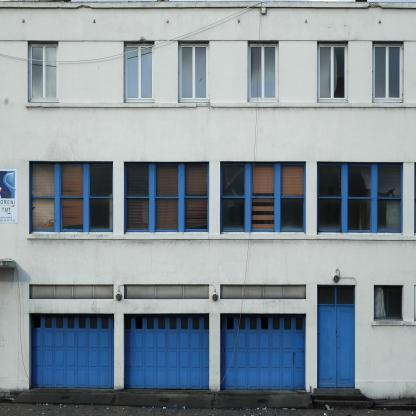Building Outline: (0, 1, 415, 405)
Door: (220, 314, 306, 391), (124, 313, 209, 390), (29, 314, 114, 390), (317, 304, 356, 388)
Facade: (0, 1, 415, 405)
Floor: (0, 1, 416, 127), (0, 137, 416, 253)
Floor Slab: (0, 127, 416, 138), (0, 253, 416, 264)
Ground Floor: (0, 264, 416, 391)
Sill: (25, 235, 416, 240), (25, 103, 416, 107), (371, 322, 416, 326)
Window: (317, 161, 404, 234), (124, 161, 209, 234), (220, 161, 305, 234), (29, 161, 113, 234), (372, 41, 404, 102), (247, 41, 279, 102), (28, 40, 59, 102), (124, 41, 155, 102), (178, 41, 209, 102), (317, 41, 348, 102), (29, 284, 114, 299), (124, 284, 209, 299), (220, 285, 306, 299), (374, 285, 403, 321), (317, 284, 356, 304)
